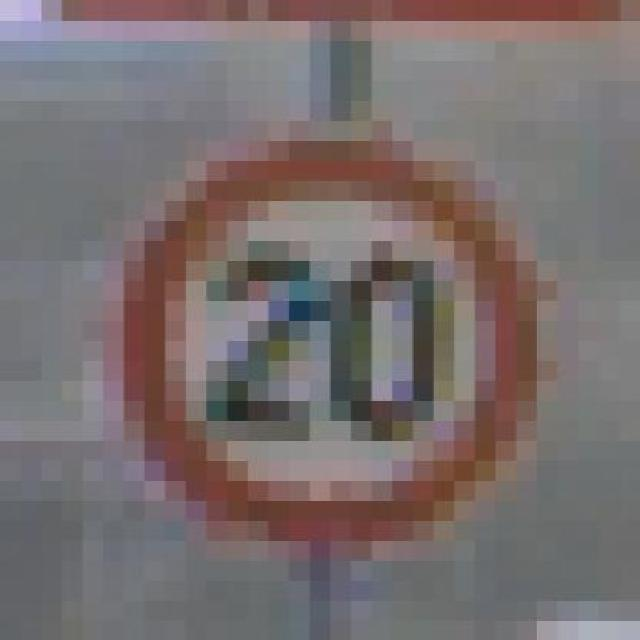forb_speed_over_20: (136, 156, 524, 521)
